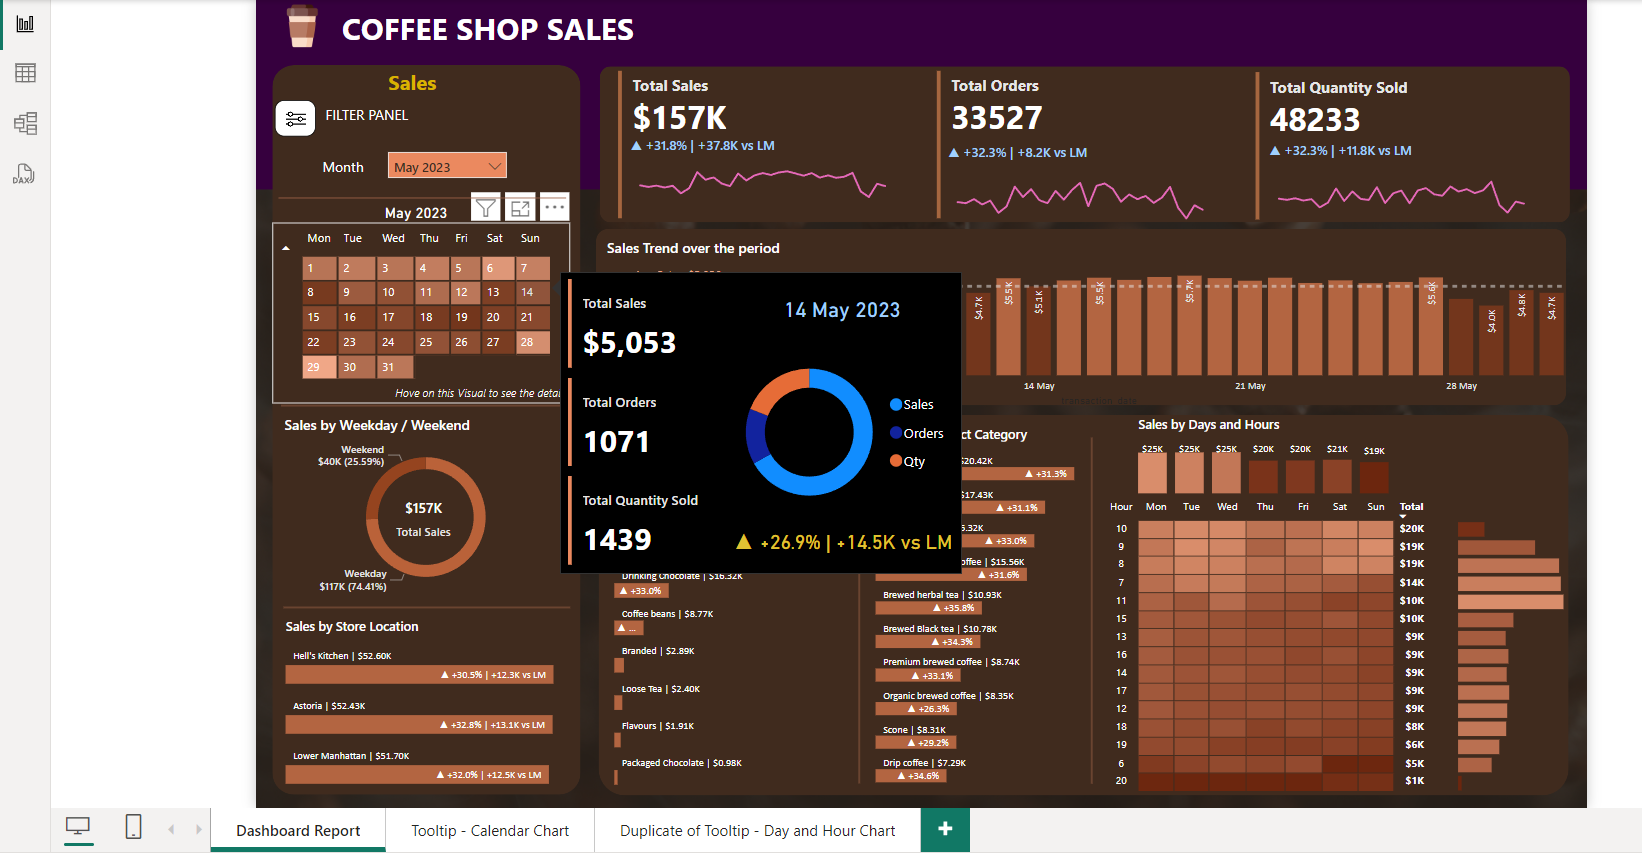

This screenshot's page, from the dashboard's own definition file:
{"tool":"powerbi","page":{"name":"Dashboard Report","canvas":[1400,850],"ordinal":0},"visuals":[{"type":"shape","box":[0,0,1400.1,199.4],"z":0},{"type":"shape","box":[360,435.7,1020,400],"z":1000},{"type":"shape","box":[17.4,67.7,324.3,767.1],"z":2000},{"type":"shape","box":[361.1,69.1,1020,164.3],"z":3000},{"type":"textbox","box":[85.7,2.9,327.1,68.6],"z":4000},{"type":"cardVisual","fields":{"Data":["Transactions.Total Sales"]},"box":[375.7,70,300.5,165.2],"z":4000,"group":"g1"},{"type":"cardVisual","fields":{"Data":["Transactions.Total Orders"]},"box":[711.1,70,300.5,165.2],"z":4000,"group":"g2"},{"type":"cardVisual","fields":{"Data":["Transactions.Total Quantity"]},"box":[1046.6,71.5,300.5,165.2],"z":4000,"group":"g3"},{"type":"slicer","fields":{"Values":["Date Table.Month Year"]},"box":[134.3,155.7,134.3,48.6],"z":5000},{"type":"lineChart","fields":{"Y":["Transactions.Total Sales"],"Category":["Date Table.Date.Variation.Date Hierarchy.Year","Date Table.Date.Variation.Date Hierarchy.Quarter","Date Table.Date.Variation.Date Hierarchy.Month","Date Table.Date.Variation.Date Hierarchy.Day"]},"box":[388.5,144.1,287.7,85.5],"z":5001,"group":"g1"},{"type":"lineChart","fields":{"Y":["Transactions.Total Quantity Sold"],"Category":["Date Table.Date.Variation.Date Hierarchy.Year","Date Table.Date.Variation.Date Hierarchy.Quarter","Date Table.Date.Variation.Date Hierarchy.Month","Date Table.Date.Variation.Date Hierarchy.Day"]},"box":[1060.7,149,287.7,85.5],"z":5001,"group":"g3"},{"type":"lineChart","fields":{"Y":["Transactions.Total Orders"],"Category":["Date Table.Date.Variation.Date Hierarchy.Year","Date Table.Date.Variation.Date Hierarchy.Quarter","Date Table.Date.Variation.Date Hierarchy.Month","Date Table.Date.Variation.Date Hierarchy.Day"]},"box":[722.8,151.7,287.7,85.5],"z":5001,"group":"g2"},{"type":"group","id":"g1","title":"Group 1","box":[375.7,70,300.5,165.2],"z":6000},{"type":"group","id":"g2","title":"Group 1","box":[711.1,70,300.5,166.6],"z":7000},{"type":"group","id":"g3","title":"Group 1","box":[1046.6,71.5,301.9,165.2],"z":8000},{"type":"pivotTable","fields":{"Rows":["Date Table.Week Number"],"Columns":["Date Table.Day Name"],"Values":["Min(Date Table.Day Number)"]},"box":[17.5,233.8,313.8,191.2],"z":9000},{"type":"card","fields":{"Values":["Min(Date Table.Month Year)"]},"box":[100,202.5,137.5,45],"z":10000},{"type":"card","fields":{"Values":["Transactions.Footnote"]},"box":[132.5,400,208.8,32.5],"z":11000},{"type":"shape","box":[25.7,410,302.9,32.9],"z":12000},{"type":"shape","box":[23.8,191.2,302.5,32.5],"z":13000},{"type":"donutChart","title":"Sales by Weekday / Weekend","fields":{"Y":["Transactions.Total Sales"],"Category":["Date Table.Weekday / Weekend"]},"box":[25,436.2,307.5,195],"z":14000},{"type":"card","fields":{"Values":["Transactions.Total Sales"]},"box":[128.8,518.8,95,51.2],"z":15000},{"type":"shape","box":[28.6,622.9,301.4,31.4],"z":16000},{"type":"shape","box":[357.1,240,1020,185.7],"z":17000},{"type":"clusteredBarChart","title":"Sales by Store Location","fields":{"Category":["Transactions.store_location"],"Y":["Transactions.Placeholder","Transactions.Total Sales"]},"box":[25.7,648.6,317.1,182.9],"z":18000},{"type":"columnChart","title":"Sales Trend over the period","fields":{"Category":["Transactions.transaction_date"],"Y":["Transactions.Total Sales"]},"box":[363.4,250.3,1020,182.9],"z":19000},{"type":"shape","box":[615.7,460.6,35.7,363.7],"z":20000},{"type":"clusteredBarChart","title":"Sales by Product Category","fields":{"Y":["Transactions.Placeholder","Transactions.Total Sales"],"Category":["Transactions.product_category"]},"box":[372,450,250,381.4],"z":21000},{"type":"clusteredBarChart","title":"Sales by Product Category","fields":{"Y":["Transactions.Placeholder","Transactions.Total Sales"],"Category":["Transactions.product_type"]},"box":[646.6,447.4,250,381.4],"z":22000},{"type":"shape","box":[861.4,460,35.7,364.3],"z":23000},{"type":"pivotTable","fields":{"Rows":["Transactions.Hour"],"Columns":["Date Table.Day Name"],"Values":["Transactions.Total Sales"]},"box":[887.1,520,370,318.6],"z":24000},{"type":"barChart","fields":{"Category":["Transactions.Hour"],"Y":["Transactions.Total Sales"]},"box":[1258.6,535.7,122.9,300],"z":25000},{"type":"columnChart","title":"Sales by Days and Hours","fields":{"Category":["Date Table.Day Name"],"Y":["Transactions.Total Sales"]},"box":[922.9,435.7,274.3,88.6],"z":26000},{"type":"textbox","box":[48.6,160,85.7,44.3],"z":27000},{"type":"textbox","box":[134.3,67.1,90,52.9],"z":28000},{"type":"textbox","box":[48.6,105.7,135.7,41.4],"z":29000},{"type":"image","box":[20,105.7,42.9,38.6],"z":30000},{"type":"image","box":[11.4,0,74.3,54.3],"z":31000}]}

Visuals, with their boxes on the page's 1400x850 design canvas (x1, y1, x2, y2). These are canvas units, not pixel positions in the 1642x853 screenshot, which may show the page scaled, cropped or inside an application window:
shape: crop(0, 0, 1400, 199)
shape: crop(360, 436, 1380, 836)
shape: crop(17, 68, 342, 835)
shape: crop(361, 69, 1381, 233)
textbox: crop(86, 3, 413, 72)
cardVisual - Transactions.Total Sales: crop(376, 70, 676, 235)
cardVisual - Transactions.Total Orders: crop(711, 70, 1012, 235)
cardVisual - Transactions.Total Quantity: crop(1047, 72, 1347, 237)
slicer - Date Table.Month Year: crop(134, 156, 269, 204)
lineChart - Transactions.Total Sales x Date Table.Date.Variation.Date Hierarchy.Year: crop(388, 144, 676, 230)
lineChart - Transactions.Total Quantity Sold x Date Table.Date.Variation.Date Hierarchy.Year: crop(1061, 149, 1348, 234)
lineChart - Transactions.Total Orders x Date Table.Date.Variation.Date Hierarchy.Year: crop(723, 152, 1010, 237)
"Group 1" group: crop(376, 70, 676, 235)
"Group 1" group: crop(711, 70, 1012, 237)
"Group 1" group: crop(1047, 72, 1348, 237)
pivotTable - Date Table.Week Number x Date Table.Day Name: crop(18, 234, 331, 425)
card - Min(Date Table.Month Year): crop(100, 202, 238, 248)
card - Transactions.Footnote: crop(132, 400, 341, 432)
shape: crop(26, 410, 329, 443)
shape: crop(24, 191, 326, 224)
"Sales by Weekday / Weekend" donutChart: crop(25, 436, 332, 631)
card - Transactions.Total Sales: crop(129, 519, 224, 570)
shape: crop(29, 623, 330, 654)
shape: crop(357, 240, 1377, 426)
"Sales by Store Location" clusteredBarChart: crop(26, 649, 343, 832)
"Sales Trend over the period" columnChart: crop(363, 250, 1383, 433)
shape: crop(616, 461, 651, 824)
"Sales by Product Category" clusteredBarChart: crop(372, 450, 622, 831)
"Sales by Product Category" clusteredBarChart: crop(647, 447, 897, 829)
shape: crop(861, 460, 897, 824)
pivotTable - Transactions.Hour x Date Table.Day Name: crop(887, 520, 1257, 839)
barChart - Transactions.Hour x Transactions.Total Sales: crop(1259, 536, 1382, 836)
"Sales by Days and Hours" columnChart: crop(923, 436, 1197, 524)
textbox: crop(49, 160, 134, 204)
textbox: crop(134, 67, 224, 120)
textbox: crop(49, 106, 184, 147)
image: crop(20, 106, 63, 144)
image: crop(11, 0, 86, 54)
